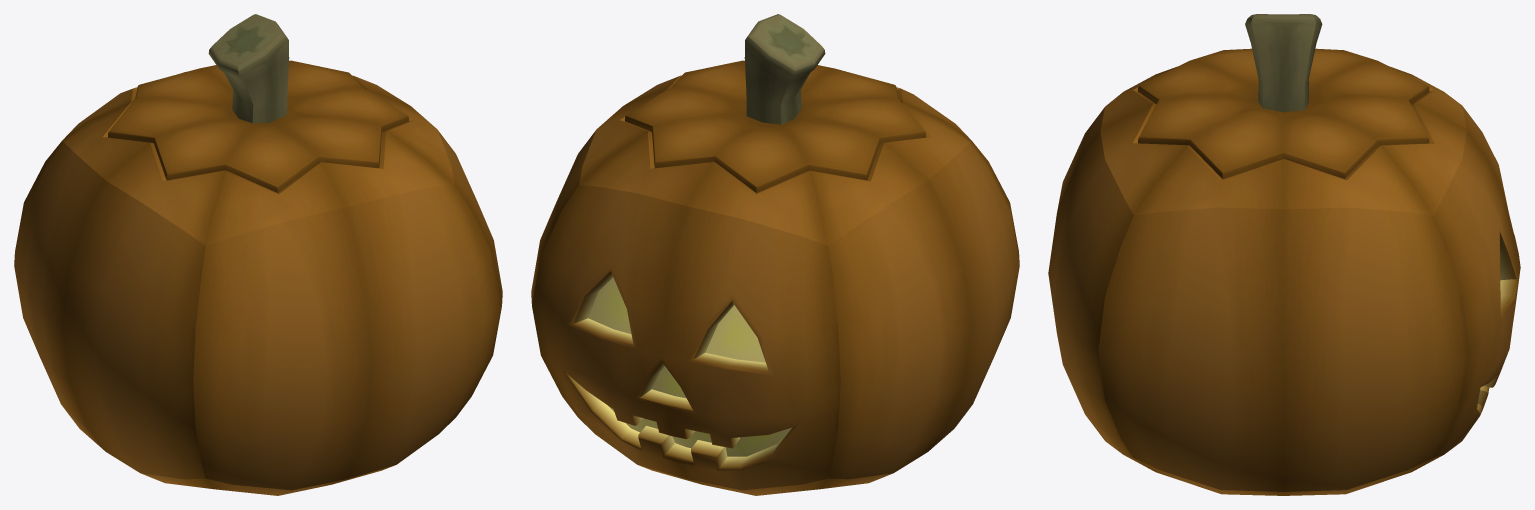
The model's file is pumpkin.glb.
3 renders of one model, left to right at view 1: azimuth 30°, elevation 25°; view 2: azimuth 150°, elevation 25°; view 3: azimuth 270°, elevation 25°, orthographic. The views are drawn at different scales.
Visible parts, largest first — view 1: JackOLantern; view 2: JackOLantern; view 3: JackOLantern.
Boxes of the visible parts, x1,y1,x2,y2 form: JackOLantern: (14, 14, 502, 495); JackOLantern: (531, 14, 1019, 495); JackOLantern: (1048, 14, 1520, 495).
Bounding box in the file's own units: 0.3651 × 0.3812 × 0.3663.
Materials: 1 (1 with a texture image).
